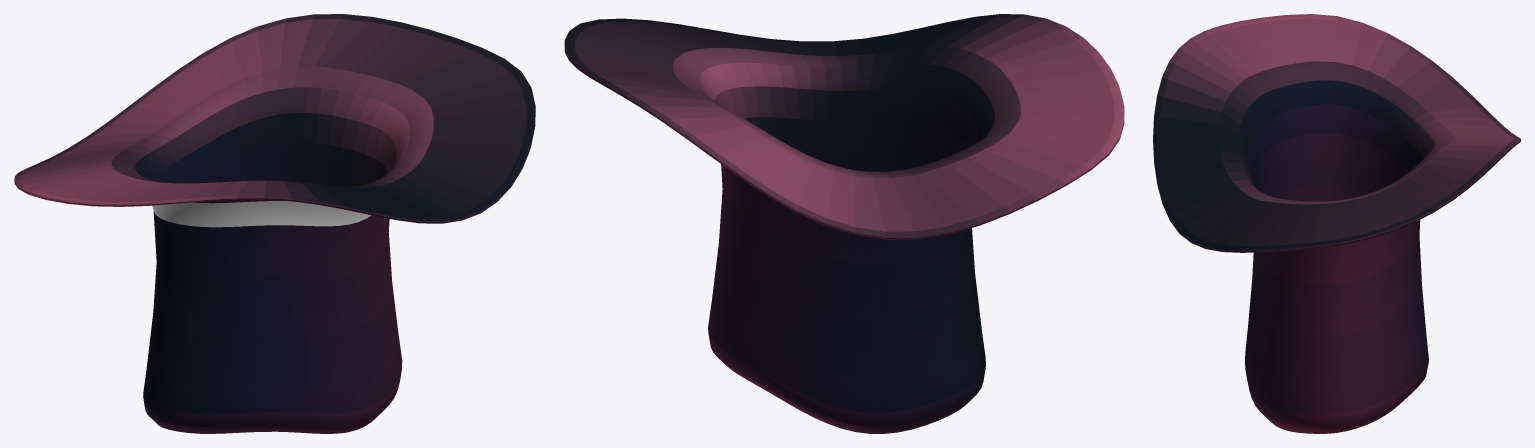
The model's file is Hat.fbx.
The picture shows the model from 3 angles, left to right: view 1: azimuth 30°, elevation 25°; view 2: azimuth 150°, elevation 25°; view 3: azimuth 270°, elevation 25°; orthographic projection. The views are drawn at different scales.
Parts seen in each view (by area): view 1: Hat; view 2: Hat; view 3: Hat.
Part boxes in pixels (x1=…): Hat: x1=14, y1=14, x2=535, y2=433; Hat: x1=564, y1=14, x2=1124, y2=433; Hat: x1=1153, y1=14, x2=1520, y2=433.
Bounding box in the file's own units: 97.83 × 59.14 × 66.88.
